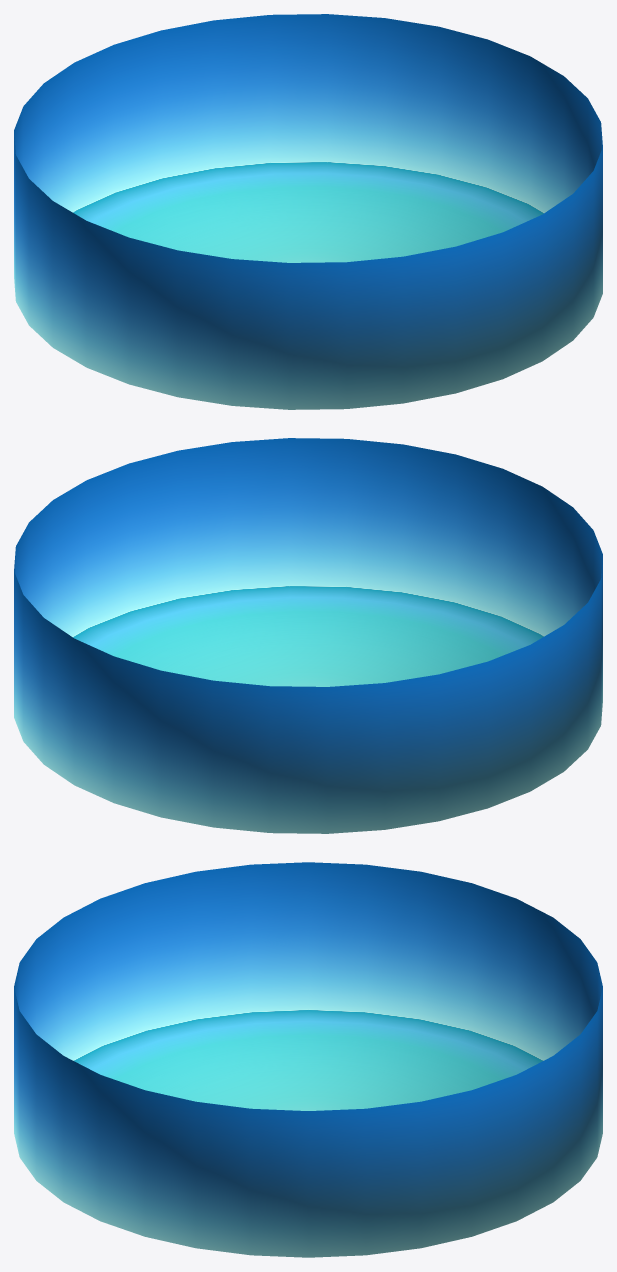
File: gara3.fbx
3 renders of one model, top to bottom at view 1: azimuth 30°, elevation 25°; view 2: azimuth 150°, elevation 25°; view 3: azimuth 270°, elevation 25°, orthographic.
Visible parts, largest first — view 1: Cylinder; view 2: Cylinder; view 3: Cylinder.
Boxes of the visible parts, bbox=[...] form: Cylinder: bbox=[14, 14, 602, 409]; Cylinder: bbox=[14, 438, 602, 833]; Cylinder: bbox=[14, 862, 602, 1257].
Size of the model in its own units: 173437 by 47634 by 173437.
